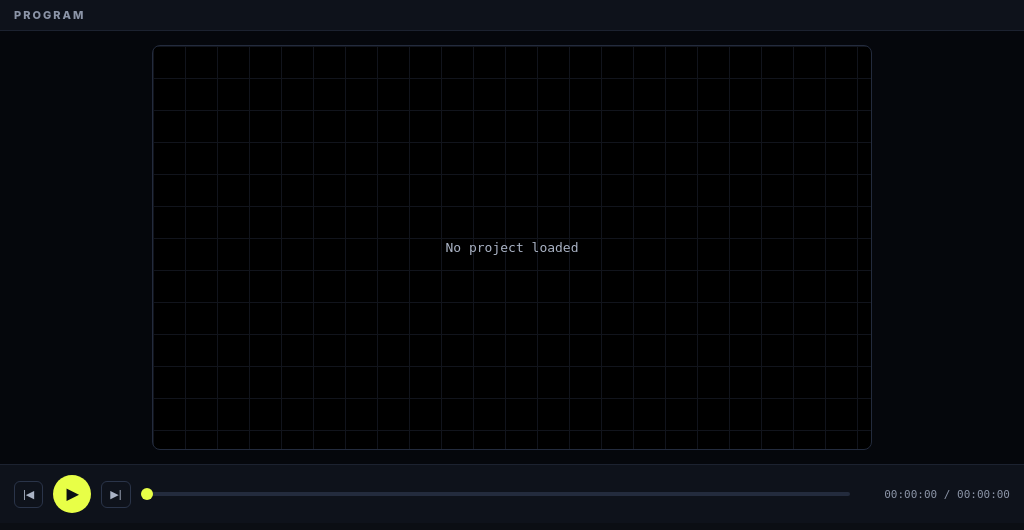
Test: Preview › should toggle play on button click
Click the button with test id "play-btn".
click(72, 494)  # box [53,475,91,513]
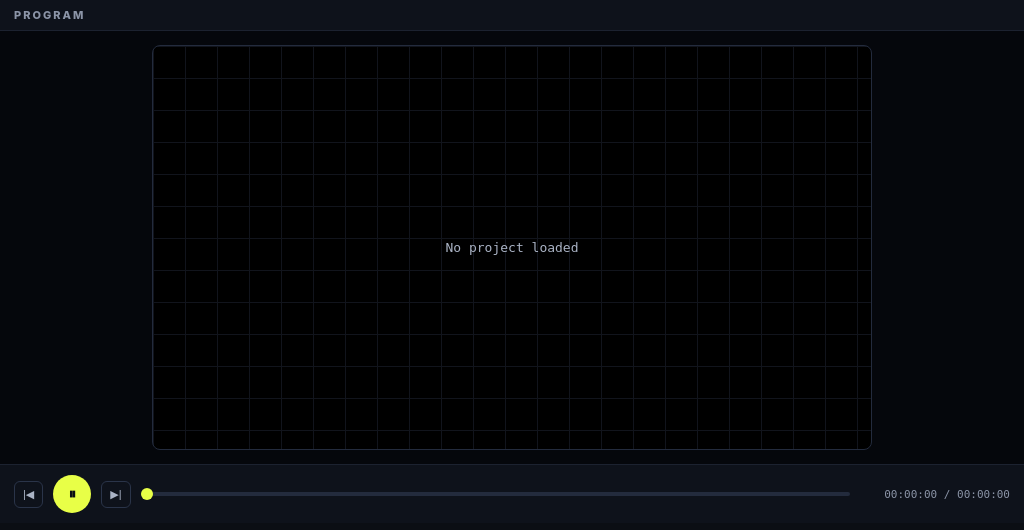
Expected: the button with test id "play-btn" reads "⏸"
Click the button with test id "play-btn".
click(72, 494)  # box [53,475,91,513]
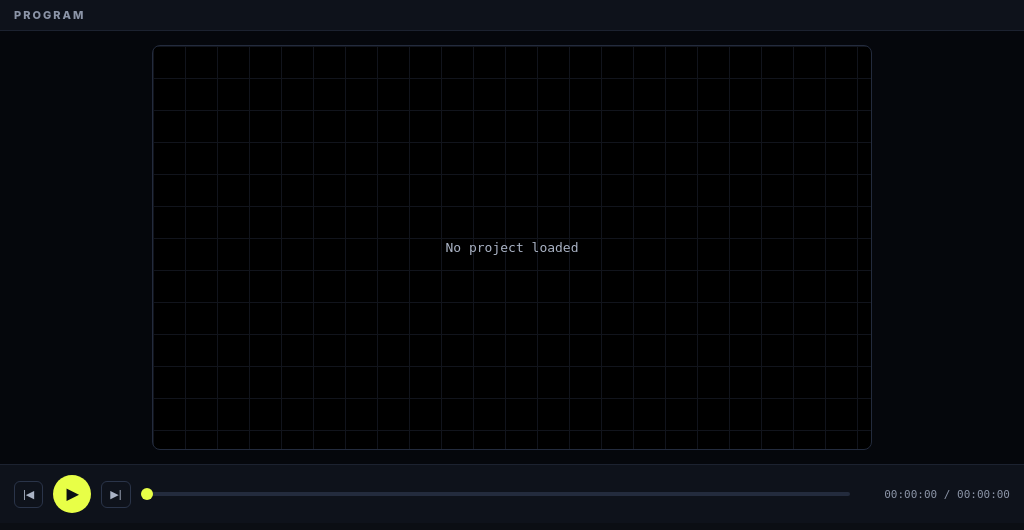
Expected: the button with test id "play-btn" reads "▶", [53,475,91,513]
